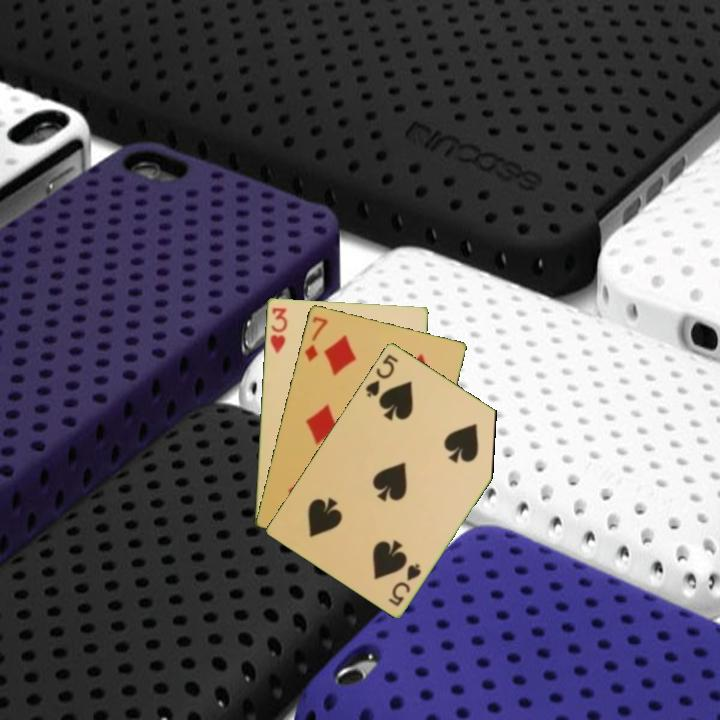3h: (267, 303, 290, 356)
5s: (362, 350, 401, 400), (385, 559, 424, 609)
7d: (301, 313, 331, 364)
